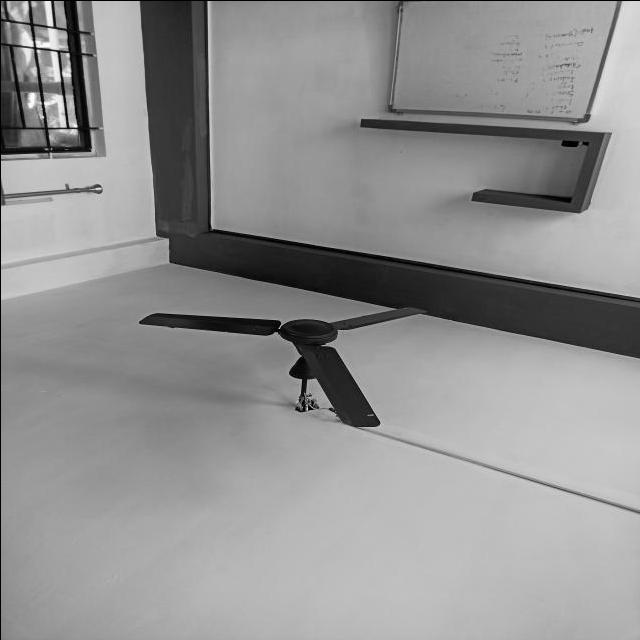fan: (138, 306, 428, 428)
